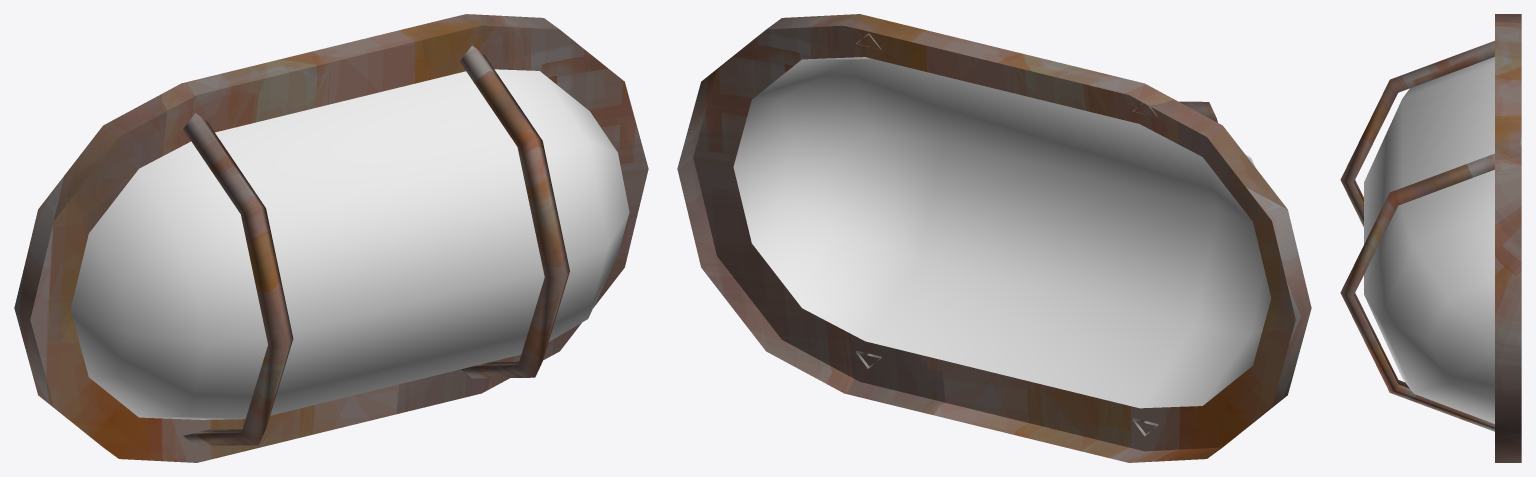
File: Sewer_Light.fbx
The picture shows the model from 3 angles, left to right: view 1: azimuth 30°, elevation 25°; view 2: azimuth 150°, elevation 25°; view 3: azimuth 270°, elevation 25°; orthographic projection. The views are drawn at different scales.
Parts seen in each view (by area): view 1: Sewer_Light; view 2: Sewer_Light; view 3: Sewer_Light.
Part boxes in pixels (left/top/right/bottom): Sewer_Light: left=14, top=14, right=648, bottom=462; Sewer_Light: left=677, top=14, right=1311, bottom=462; Sewer_Light: left=1340, top=14, right=1521, bottom=462.
Bounding box in the file's own units: 91.41 × 51.96 × 27.74.
